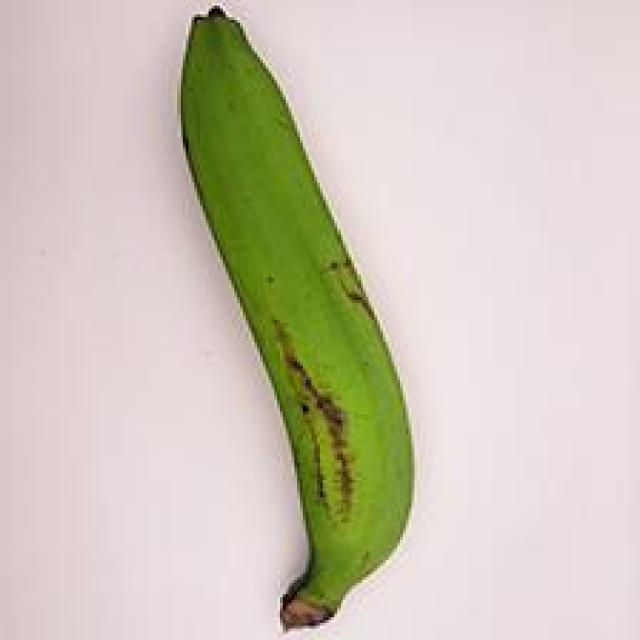Raw: (143, 0, 448, 640)
